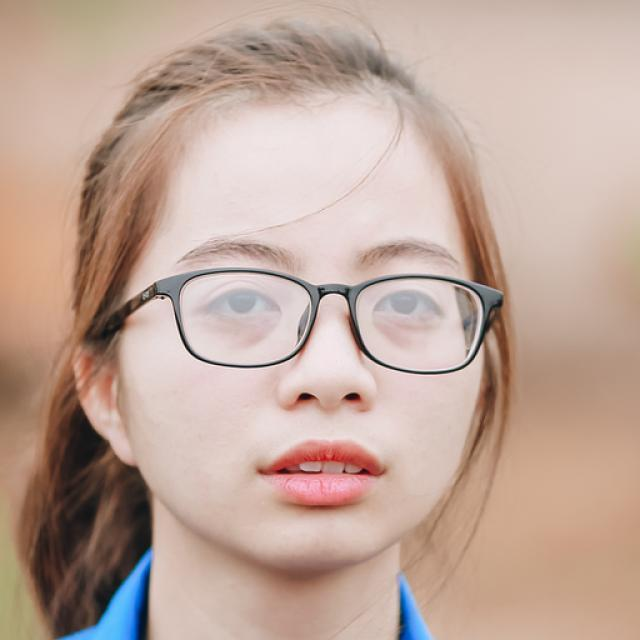surprise: (122, 85, 482, 574)
